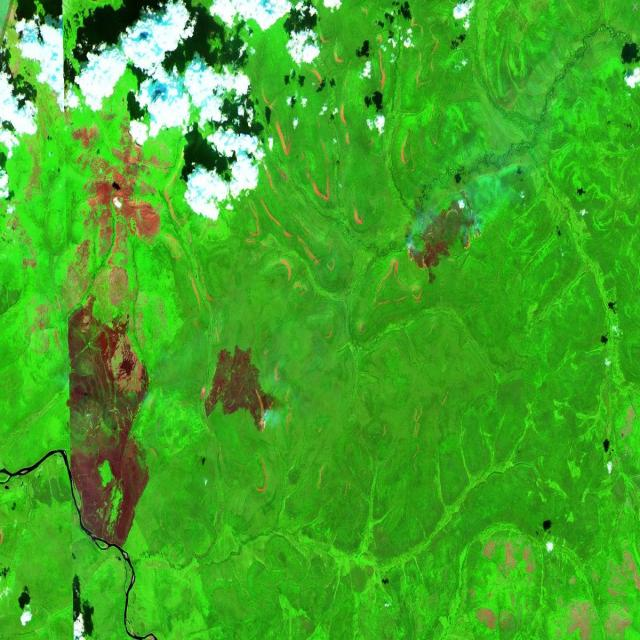fire: (455, 221, 485, 261), (255, 396, 279, 433), (404, 238, 422, 270)
